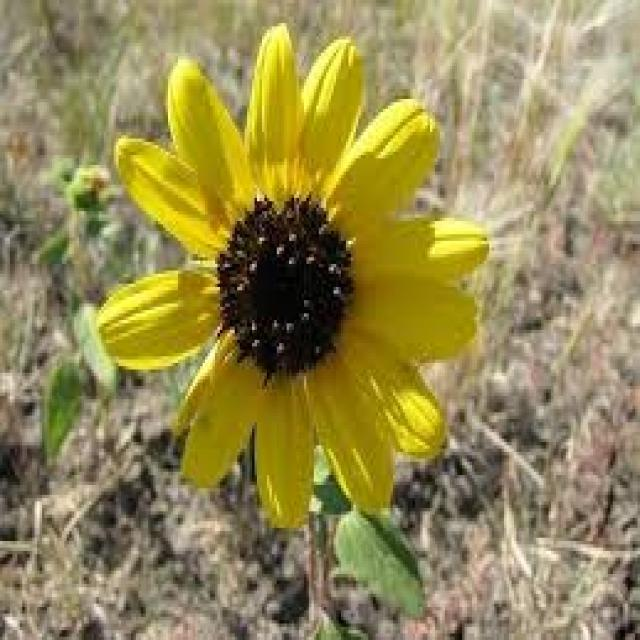sunflower: (93, 14, 493, 541)
